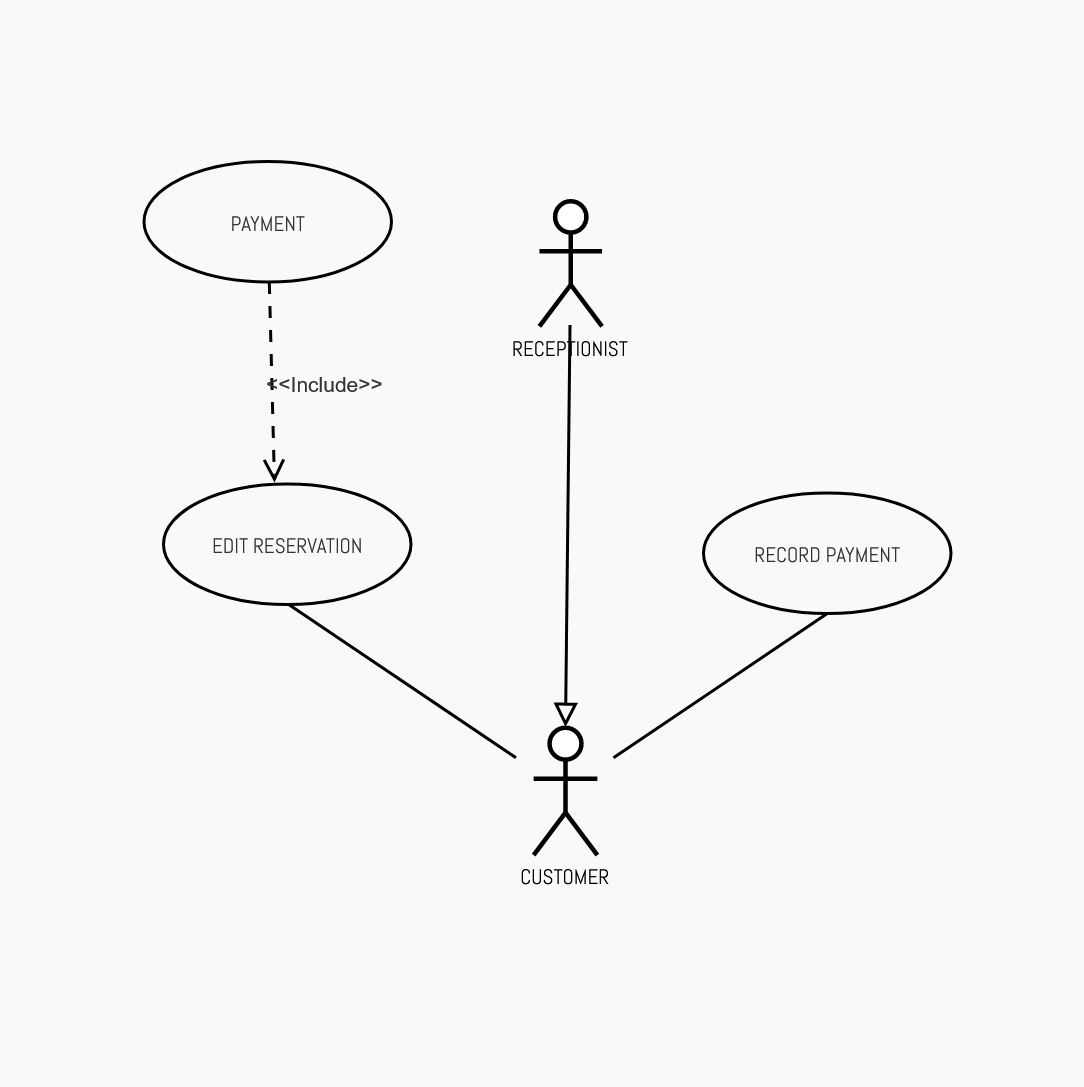actor: (523, 723, 603, 858), (539, 190, 608, 334)
association: (294, 605, 519, 761), (614, 615, 824, 760), (550, 321, 585, 726), (261, 284, 289, 481)
text: (206, 531, 371, 563), (753, 541, 907, 570), (267, 367, 388, 403), (507, 331, 638, 359), (224, 204, 322, 240), (507, 865, 636, 887)
use_case: (139, 159, 393, 285), (162, 482, 413, 607), (700, 491, 953, 615)
